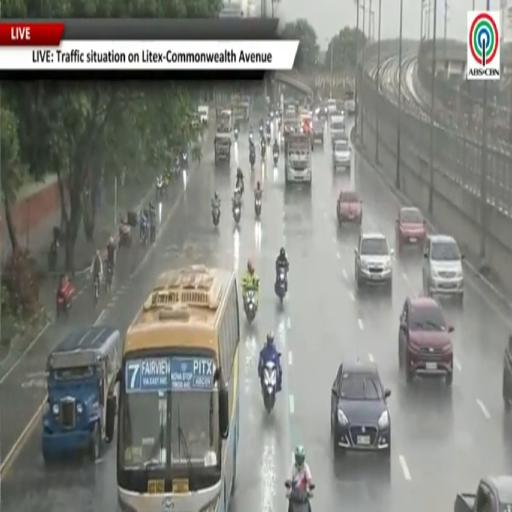bus: (117, 266, 239, 511)
car: (330, 362, 390, 455), (399, 297, 453, 385), (423, 235, 464, 305), (355, 233, 393, 293), (396, 207, 426, 250), (337, 191, 362, 226), (502, 335, 511, 408), (333, 138, 351, 170), (312, 119, 323, 146), (198, 105, 209, 125)
jeepney: (42, 326, 122, 461), (215, 133, 231, 165)
motorcycle: (285, 482, 314, 511), (262, 361, 277, 412), (56, 281, 74, 317), (275, 267, 287, 302), (245, 290, 257, 323), (48, 240, 58, 273), (119, 223, 131, 248), (104, 261, 113, 293), (140, 221, 149, 246), (212, 206, 220, 227), (156, 179, 164, 200), (233, 204, 241, 223), (255, 198, 261, 219), (236, 179, 244, 194), (249, 150, 255, 170), (182, 153, 188, 170), (261, 140, 266, 157), (273, 151, 279, 165), (234, 128, 238, 141), (249, 133, 253, 146), (267, 132, 270, 143)
truck: (454, 475, 511, 511), (285, 134, 311, 184), (215, 107, 232, 165), (232, 99, 250, 124), (216, 107, 232, 134), (345, 90, 355, 115)
